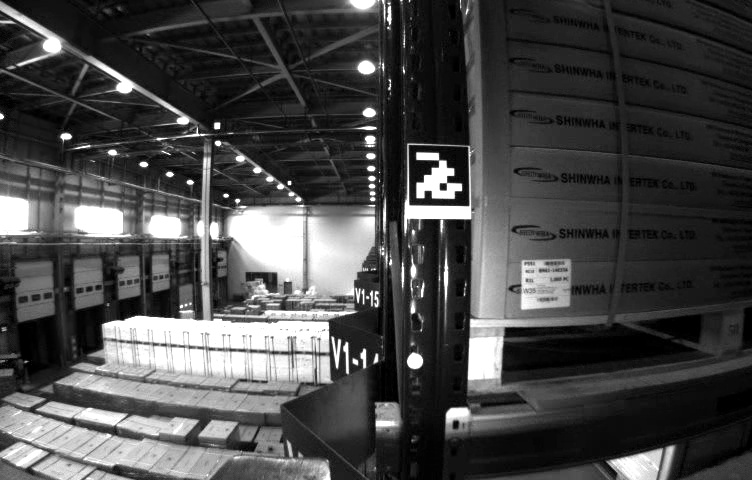True Barcode: (519, 257, 572, 307)
